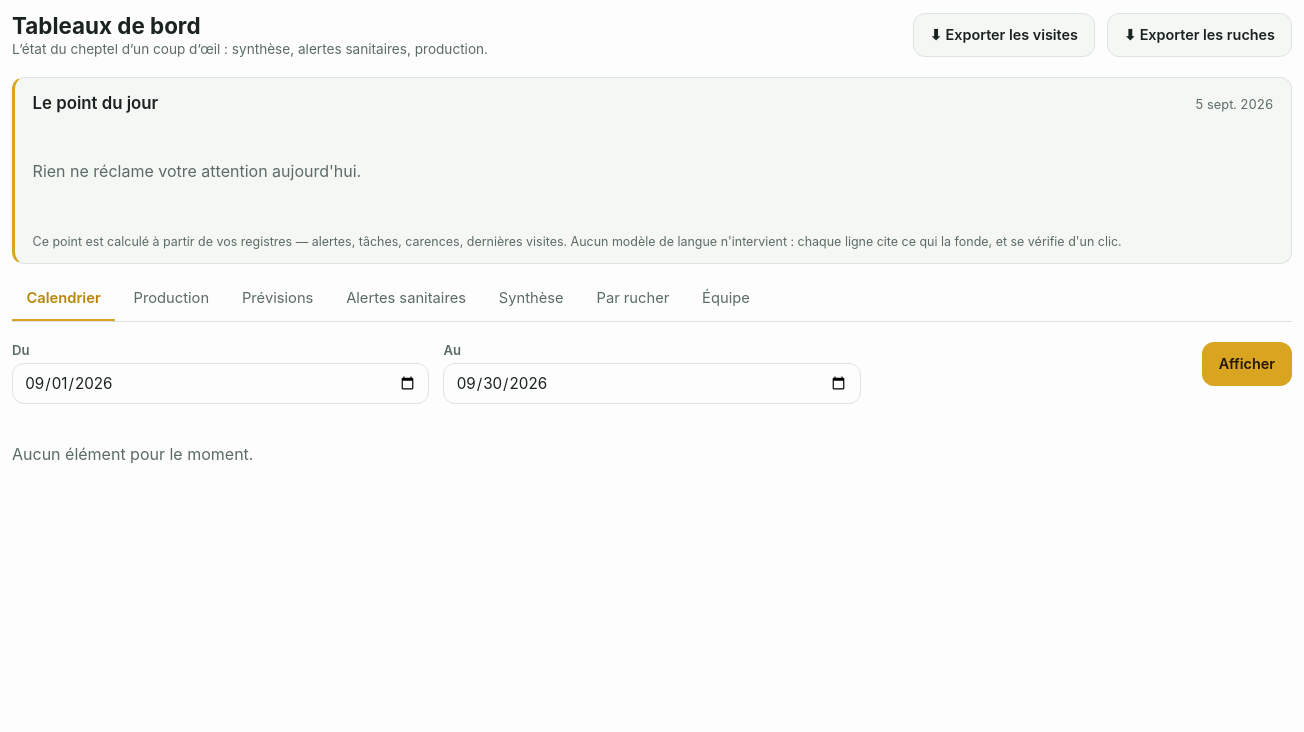
Test: synthèse par rucher et charge d’équipe (SPRINT-23) › dit à quoi les chiffres de l’équipe ne servent pas
Click the button "Équipe" at [726, 299], box 688,277 -> 764,321
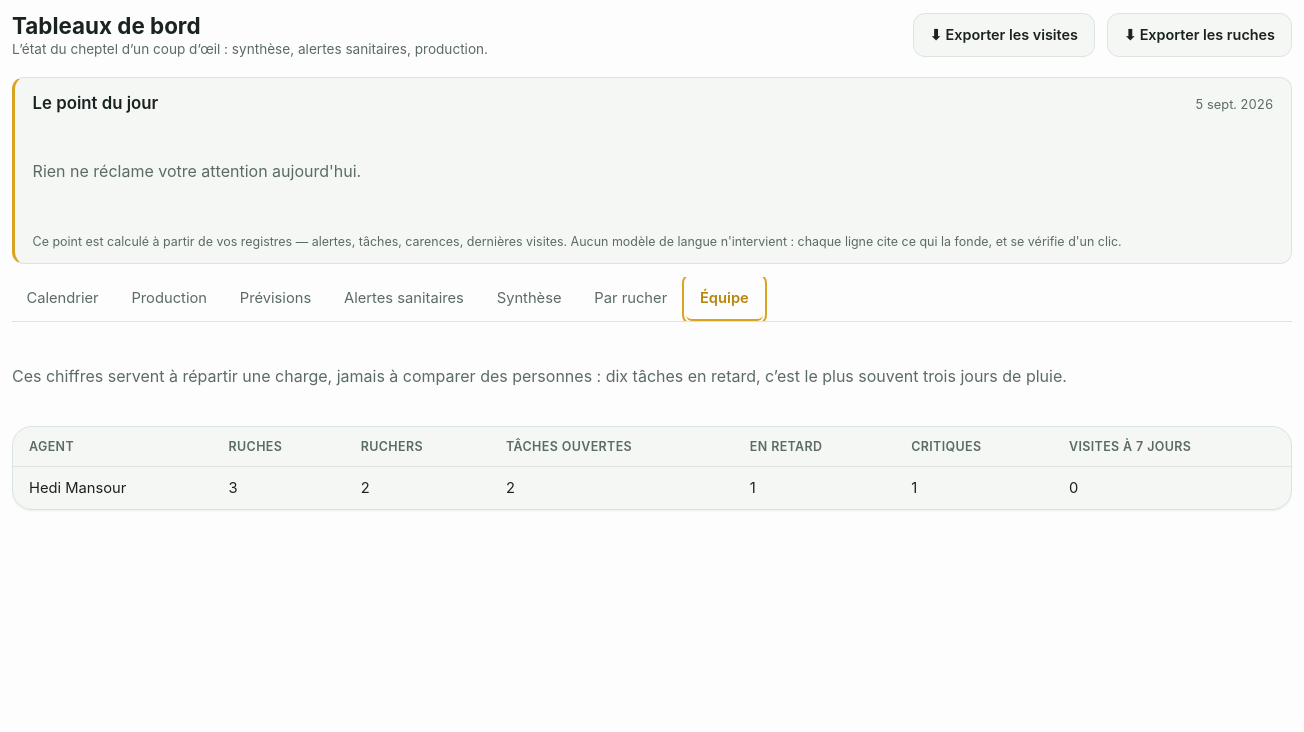
expect the text "Hedi Mansour" is shown: met, box 13,466 -> 212,509
expect the text "jamais à comparer des personnes" is shown: met, box 12,366 -> 1067,386
